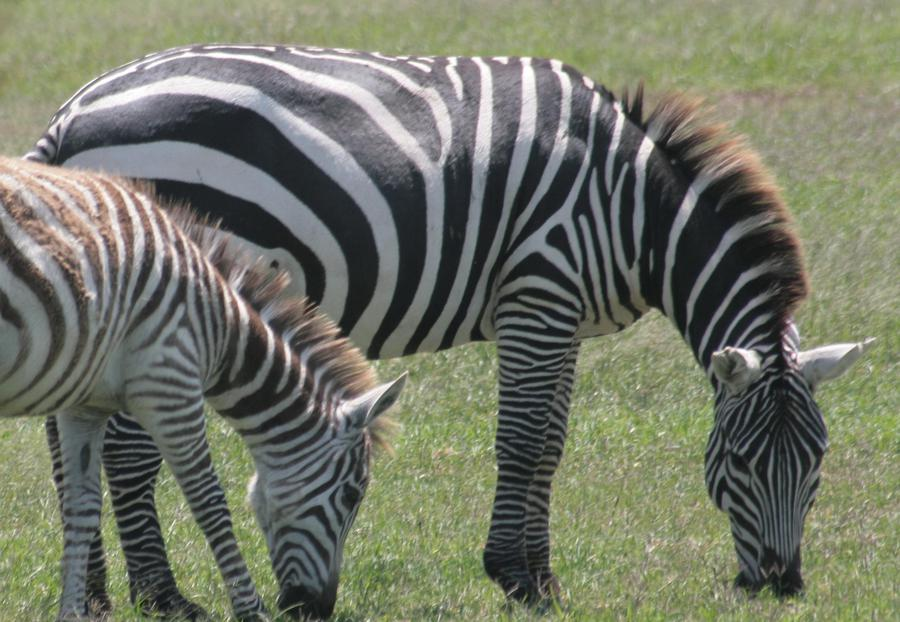zebra_plains: (223, 31, 611, 306)
